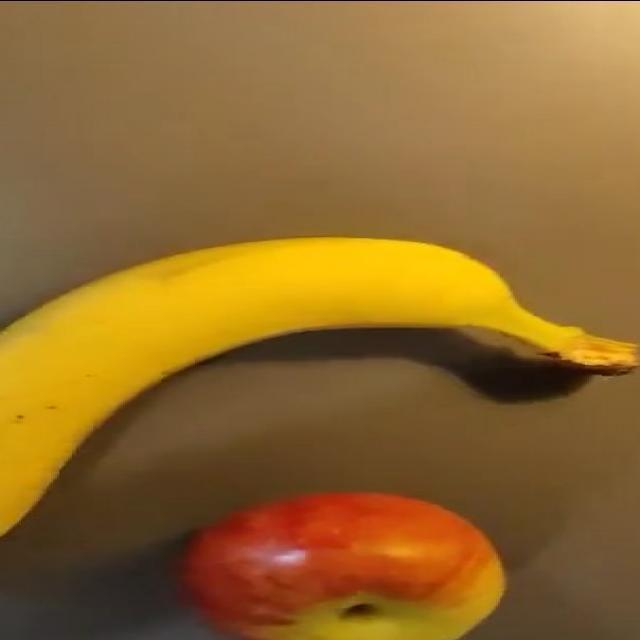Apple: (178, 489, 506, 639)
Banana: (0, 233, 639, 547)
